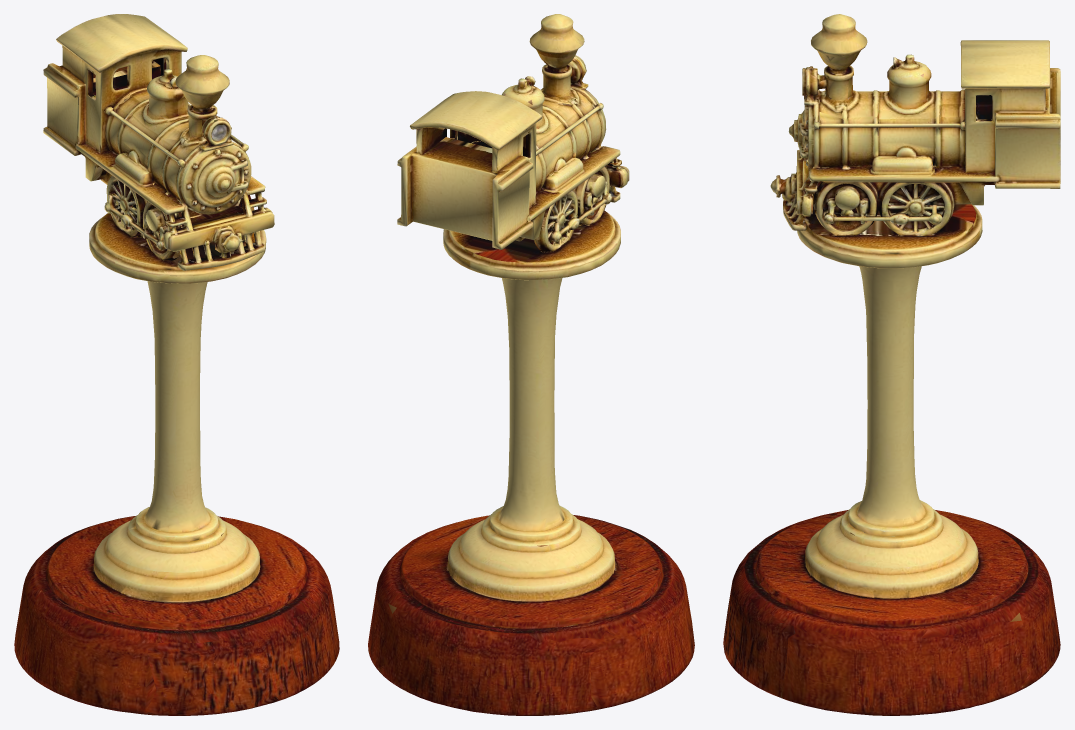
File: trophy.glb
3 renders of one model, left to right at view 1: azimuth 30°, elevation 25°; view 2: azimuth 150°, elevation 25°; view 3: azimuth 270°, elevation 25°, orthographic. The views are drawn at different scales.
Parts seen in each view (by area): view 1: trophy; view 2: trophy; view 3: trophy.
Part boxes in pixels (bbox=[...]): trophy: bbox=[14, 14, 339, 715]; trophy: bbox=[368, 14, 694, 715]; trophy: bbox=[723, 14, 1060, 715].
Size of the model in its own units: 0.4824 by 1 by 0.4852.
Materials: 1 (1 with a texture image).
